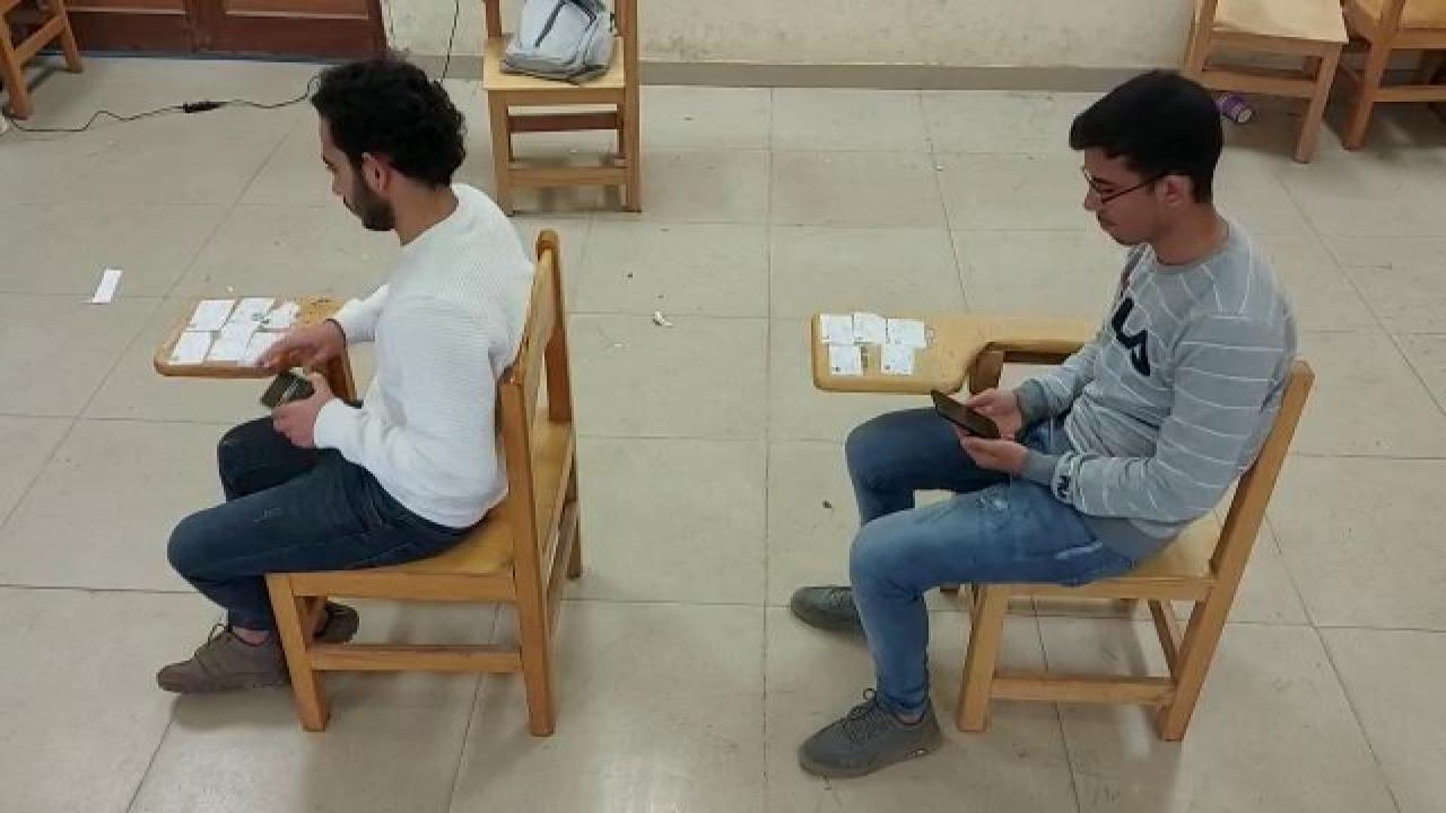phone: (924, 383, 1005, 450), (258, 369, 337, 427)
